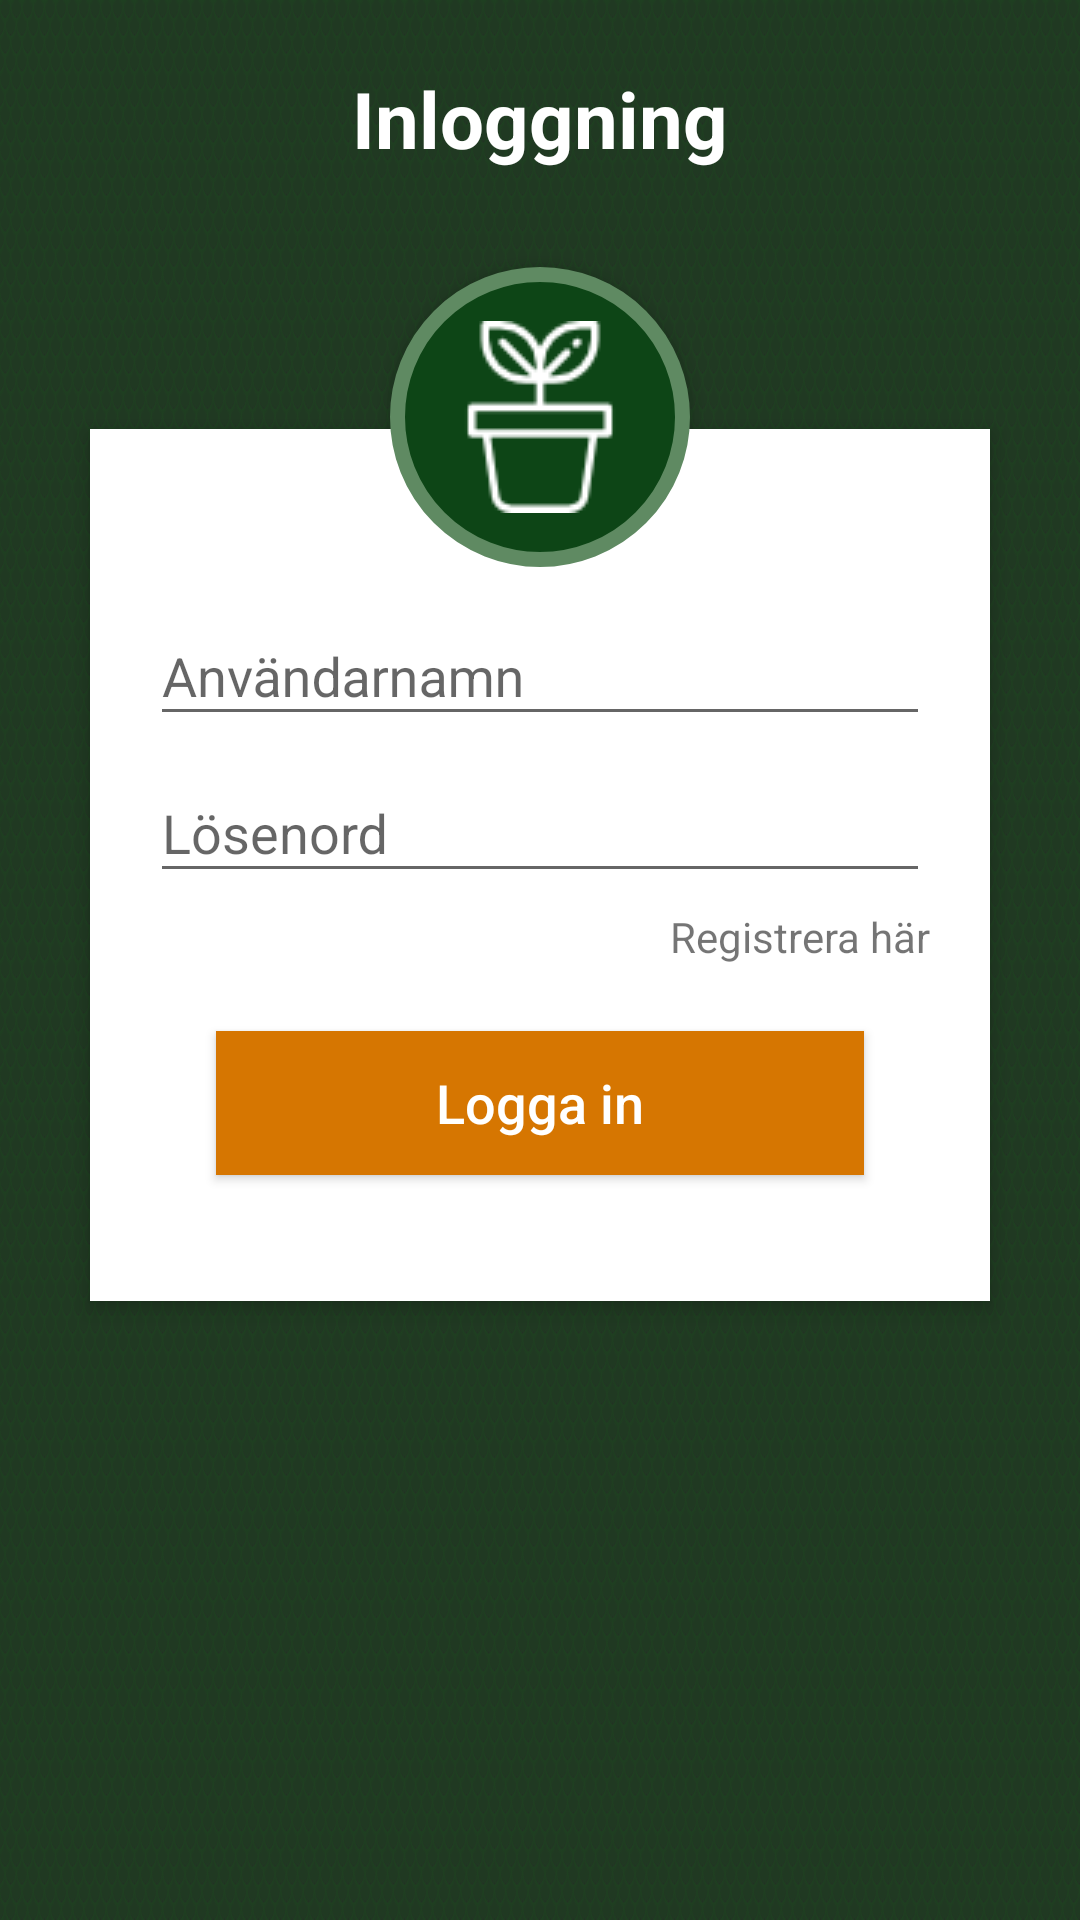

Named icons in this screenshot (1080px×1920px) and their centers, point (x, y):
plantlogin: point (540, 417)
